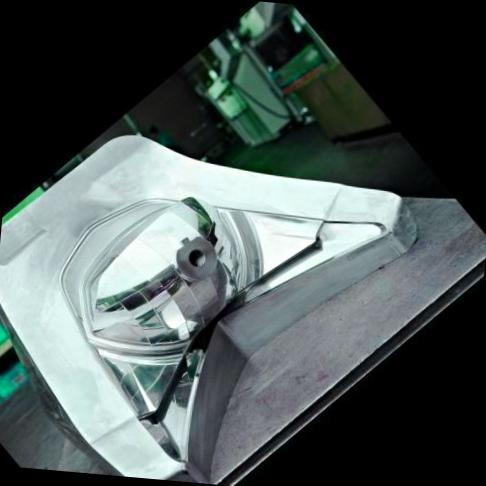hole: (182, 241, 214, 273)
